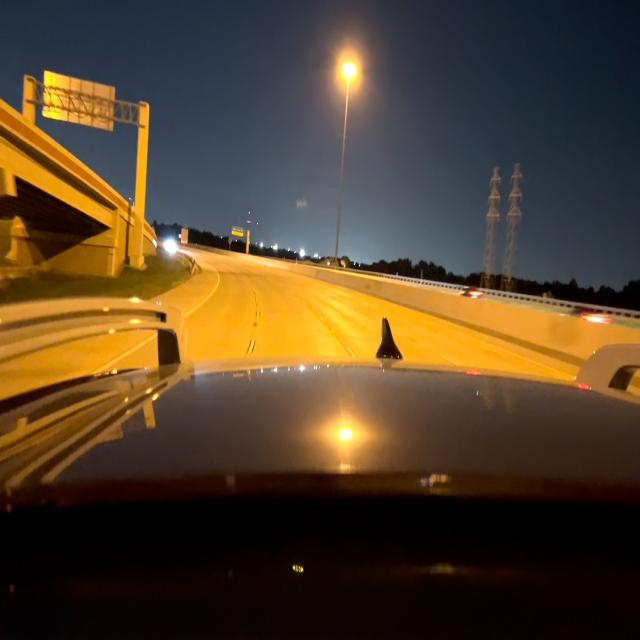back-of-sign: (44, 70, 115, 130)
